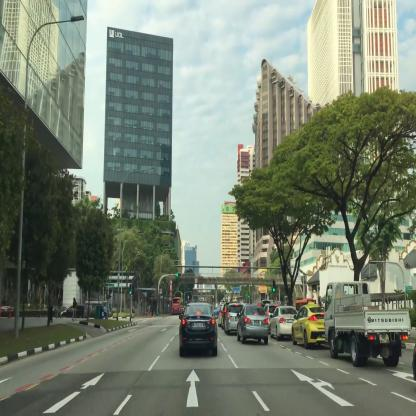green_traffic_light: (129, 284, 132, 294), (176, 273, 180, 276)
